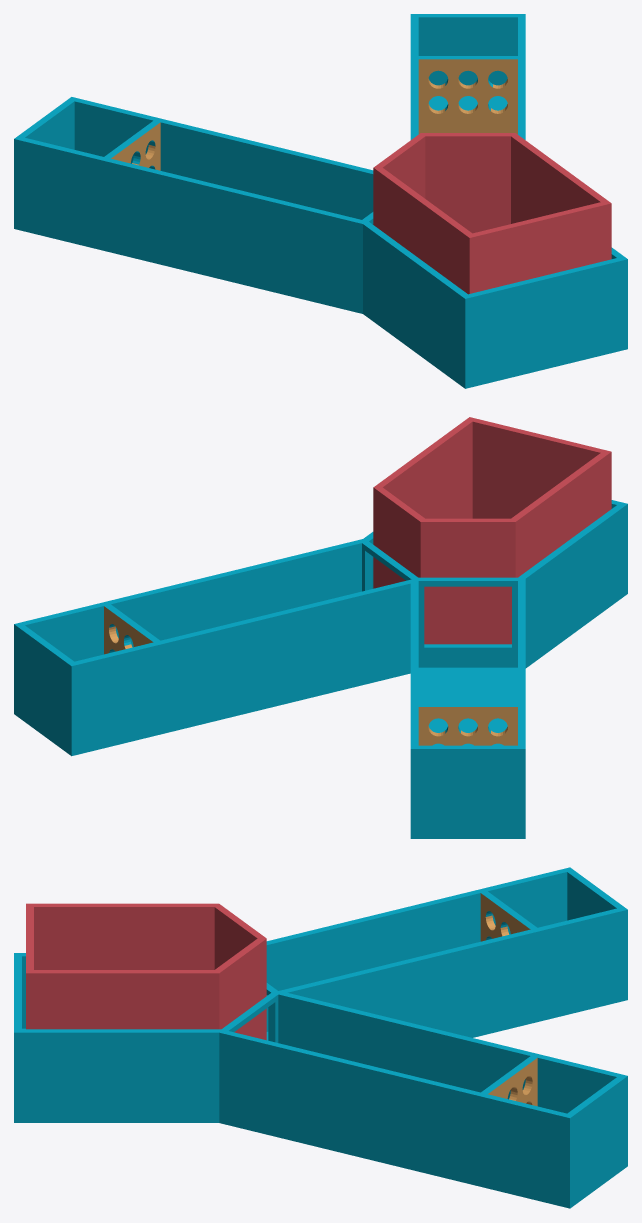
The model's file is meital Y exp v7.glb.
3 renders of one model, top to bottom at view 1: azimuth 30°, elevation 25°; view 2: azimuth 150°, elevation 25°; view 3: azimuth 270°, elevation 25°, orthographic.
Size of the model in its own units: 0.0298 by 0.008 by 0.0308.
